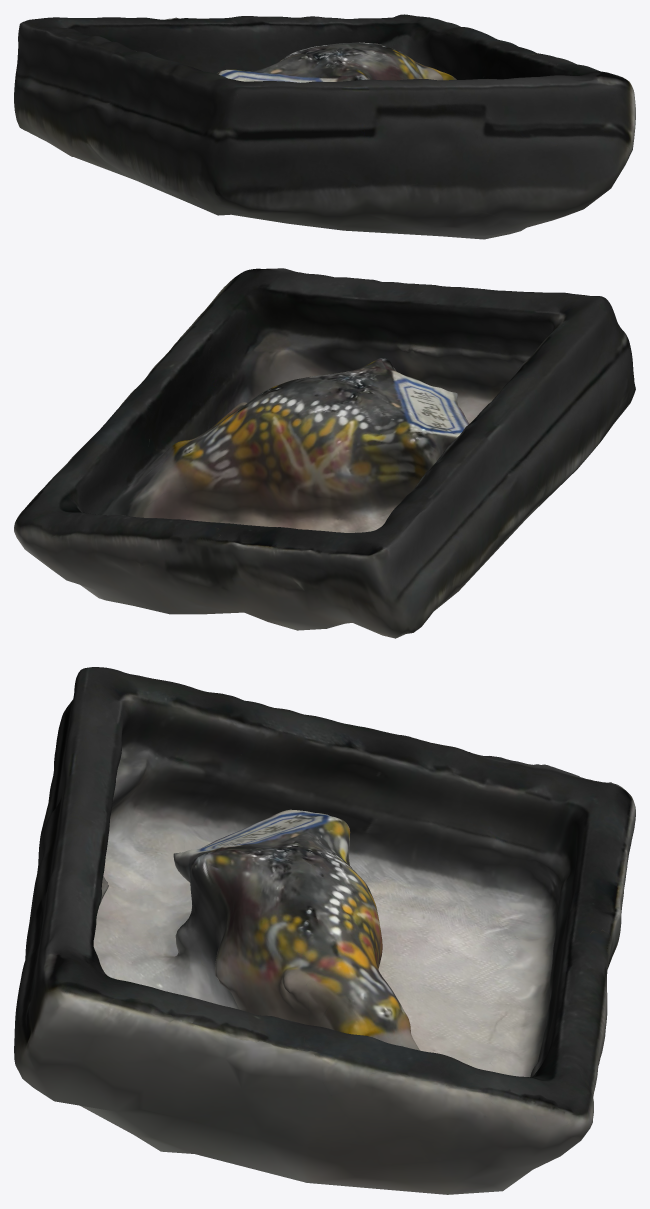
3 views of the same model, one above another, from view 1: azimuth 30°, elevation 25°; view 2: azimuth 150°, elevation 25°; view 3: azimuth 270°, elevation 25° (orthographic). The views are drawn at different scales.
Size of the model in its own units: 0.569 by 0.3338 by 0.5844.
Materials: 1 (1 with a texture image).
